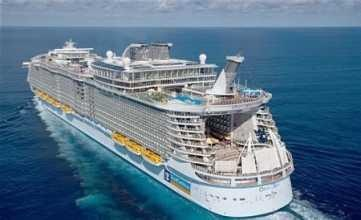youlun: (20, 38, 301, 217)
